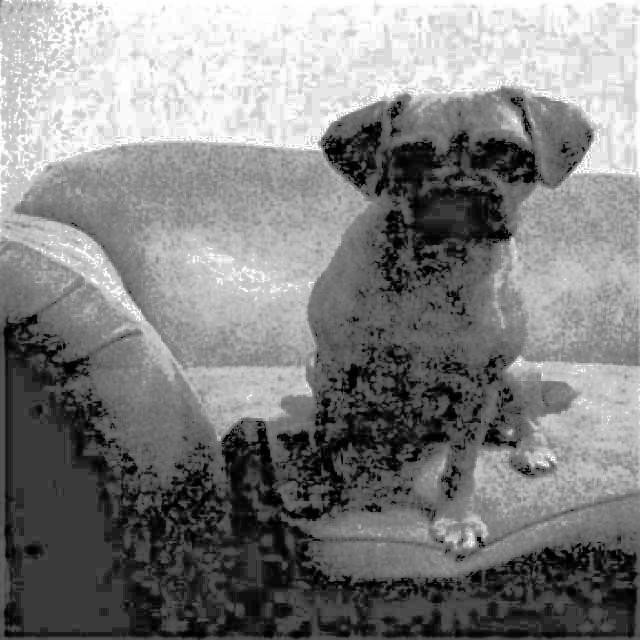Dog: (257, 85, 599, 556)
